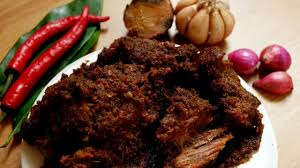rendang: (19, 25, 271, 168)
